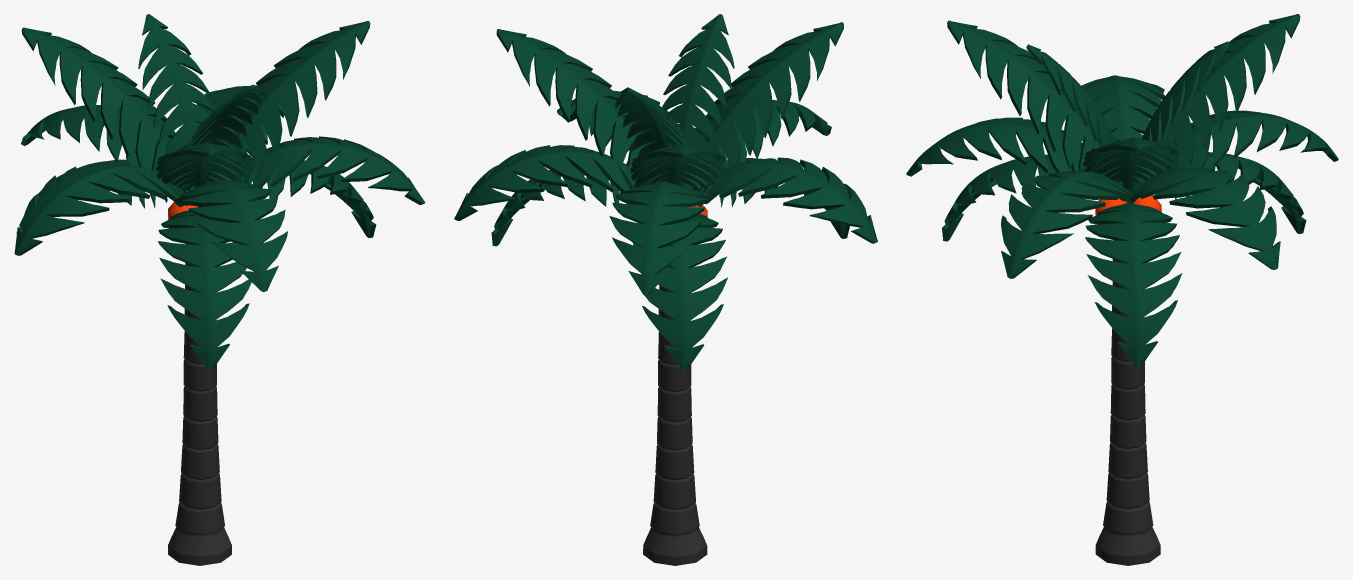
Rendered from uploads_files_1884402_palm.fbx.
3 renders of one model, left to right at view 1: azimuth 30°, elevation 25°; view 2: azimuth 150°, elevation 25°; view 3: azimuth 270°, elevation 25°, orthographic.
Parts seen in each view (by area): view 1: palm; view 2: palm; view 3: palm.
Part boxes in pixels (<box>): palm: <box>14,14,425,565</box>; palm: <box>454,14,877,565</box>; palm: <box>906,14,1338,565</box>.
Bounding box in the file's own units: 165 × 213 × 164.
